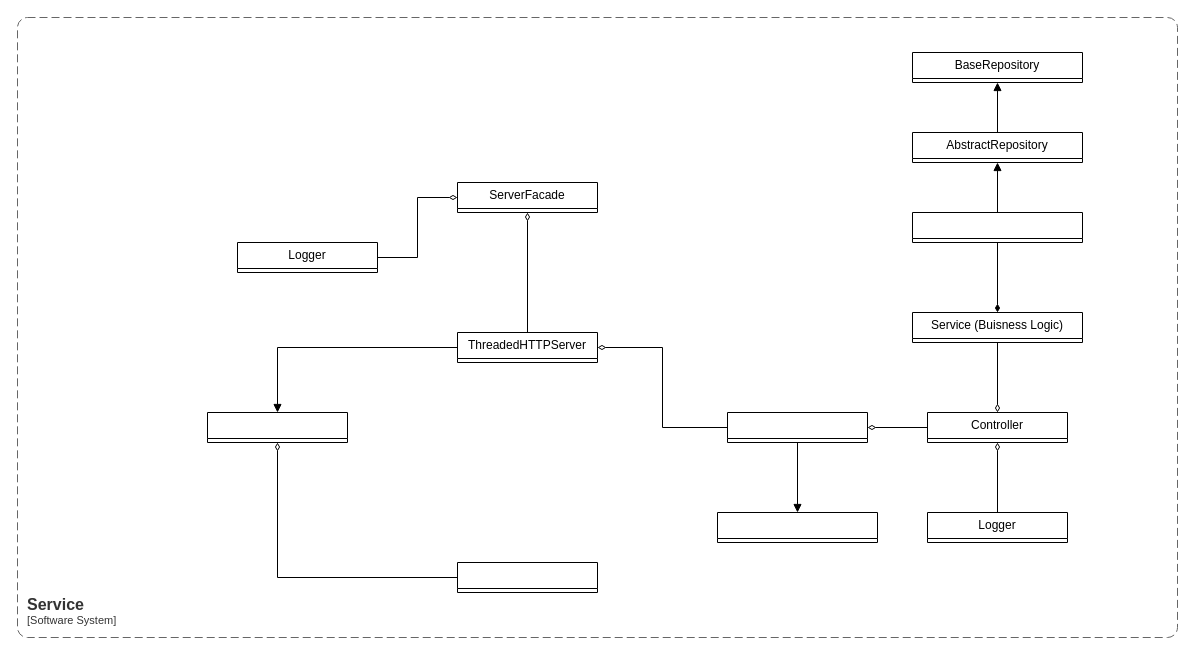
This 1195x655 diagram has some shape labels left out. Each missing label, with the centre of its shape:
"BaseHTTPRequestHandler" goes at (x=797, y=527).
"ConcreteRepository" goes at (x=997, y=227).
"Dispatcher" goes at (x=797, y=427).
"HTTPServer" goes at (x=277, y=427).
"TCP Server" goes at (x=527, y=577).
